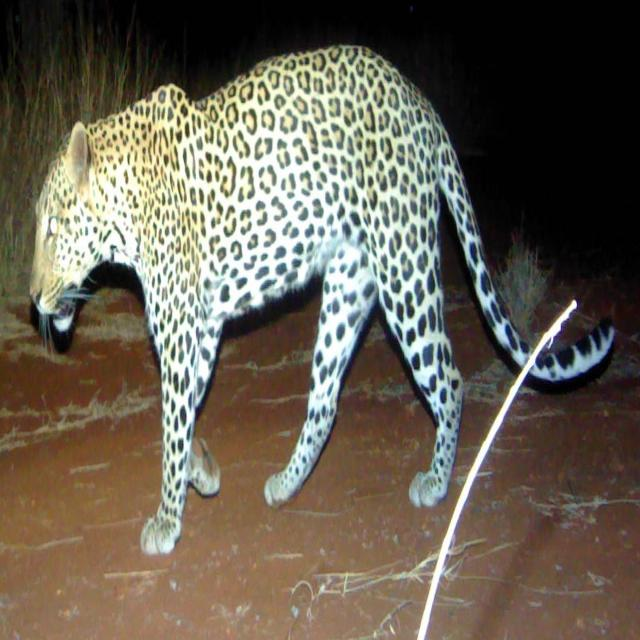Leopard: (14, 55, 606, 575)
